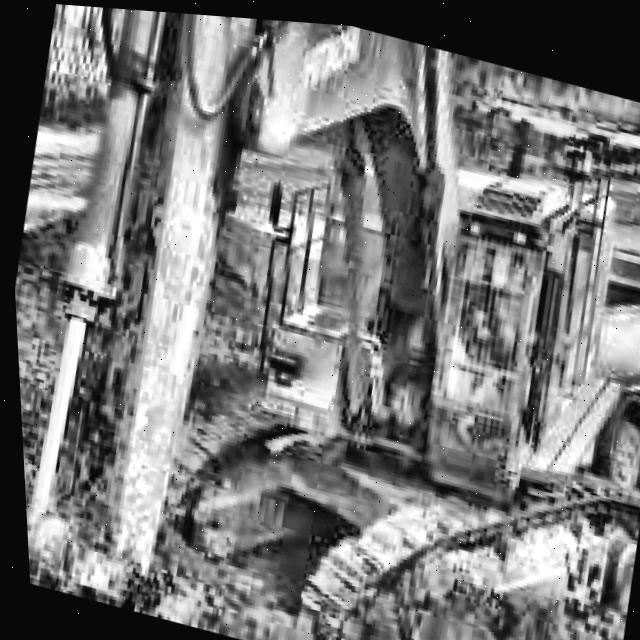dump_truck: (563, 225, 640, 484)
excavator: (0, 0, 640, 640)
